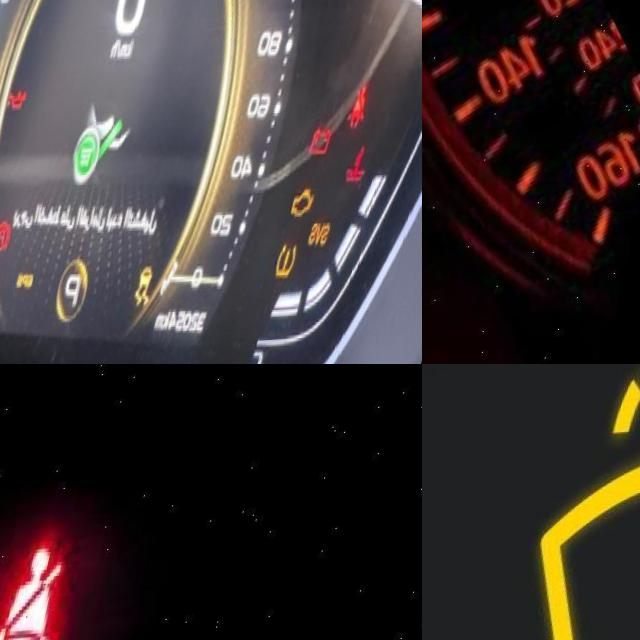High Engine Coolant Temperature: (357, 146, 391, 198)
Seat Belt: (0, 545, 90, 640), (358, 86, 390, 142)
Washer Fluid: (511, 364, 640, 640)
